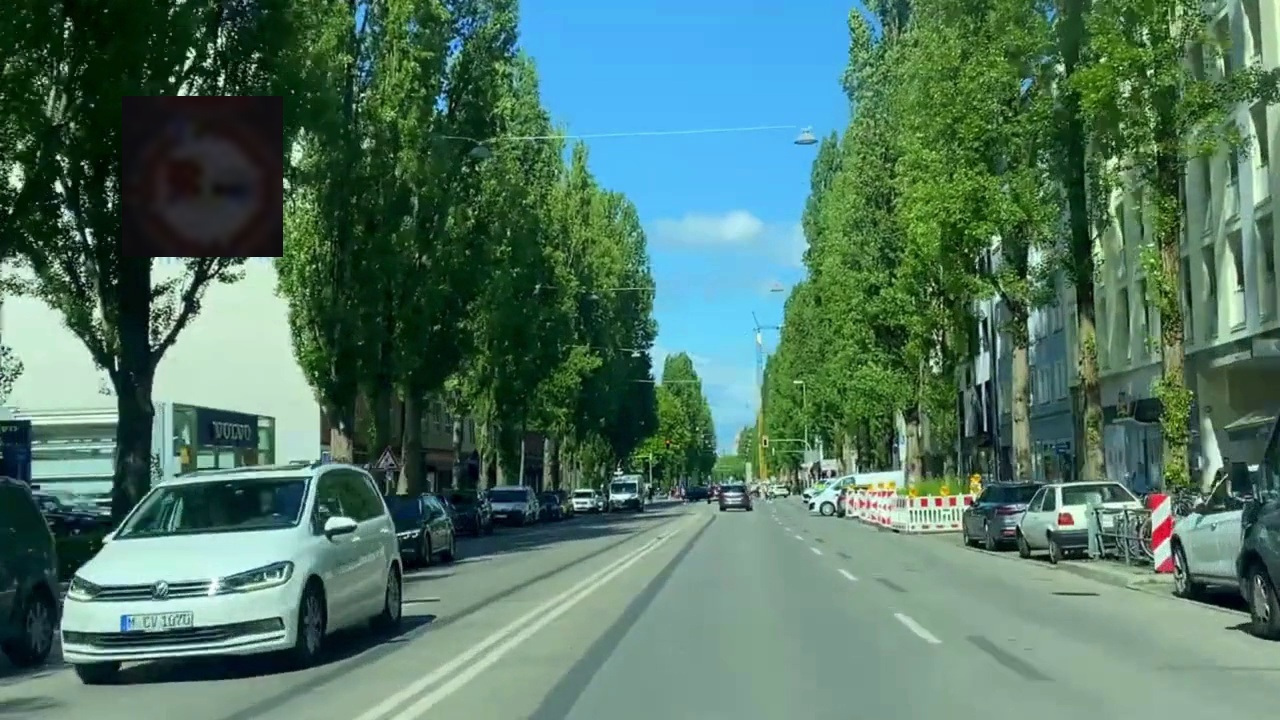No pass >3.5t: (122, 96, 283, 257)
